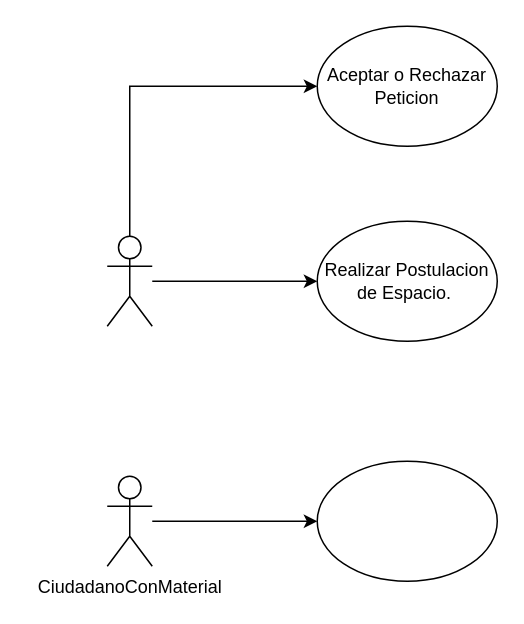
Image size: 524x624. Some labels were removed from this diagram. Here are the shapes that lost their labels. From the top down, the centre of each, then its label:
At pixel 129 280: "CiudadanoConTransporte".
At pixel 406 520: "Realizar Peticion de Transporte".
